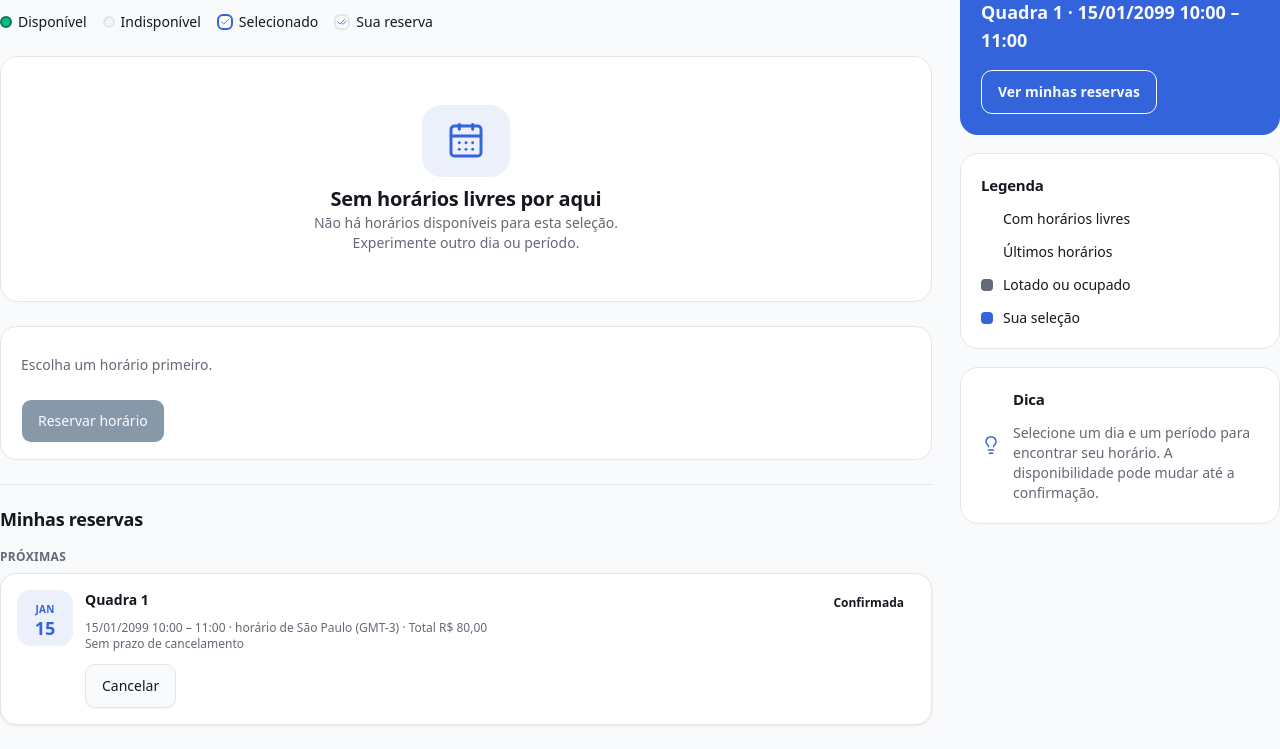
Scenario: TenantPortalAgendaPage B2C self-cancel › keeps a reservation from a newer refresh when the cancel list is stale
(page scrolled)
Expected: the heading "Minhas reservas" is shown, [0,507,143,531]
Expected: the list item "Quadra 1" shows "R$ 80,00", [409,619,487,636]
Click the button "Cancelar" at coordinates (131, 686), box [85,664,176,708]
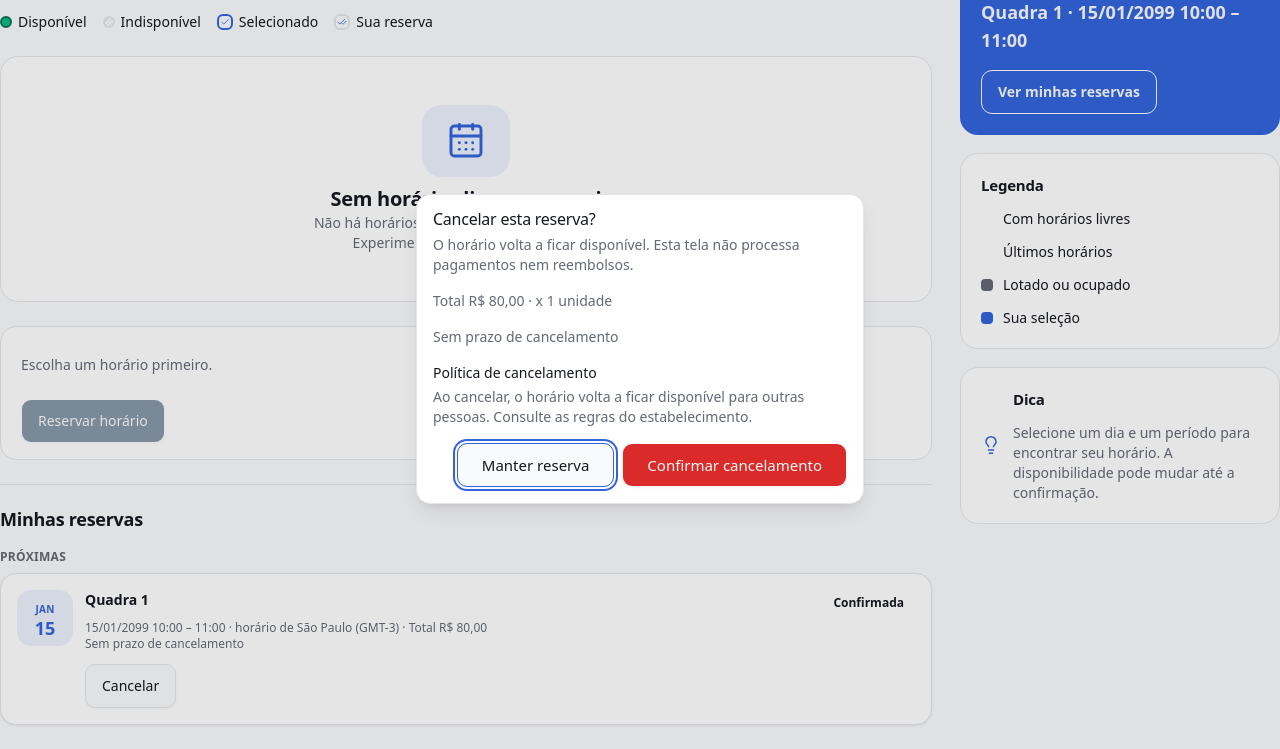
Click the button "Confirmar cancelamento" at coordinates (735, 465), box [622,443,847,487]
(page scrolled)
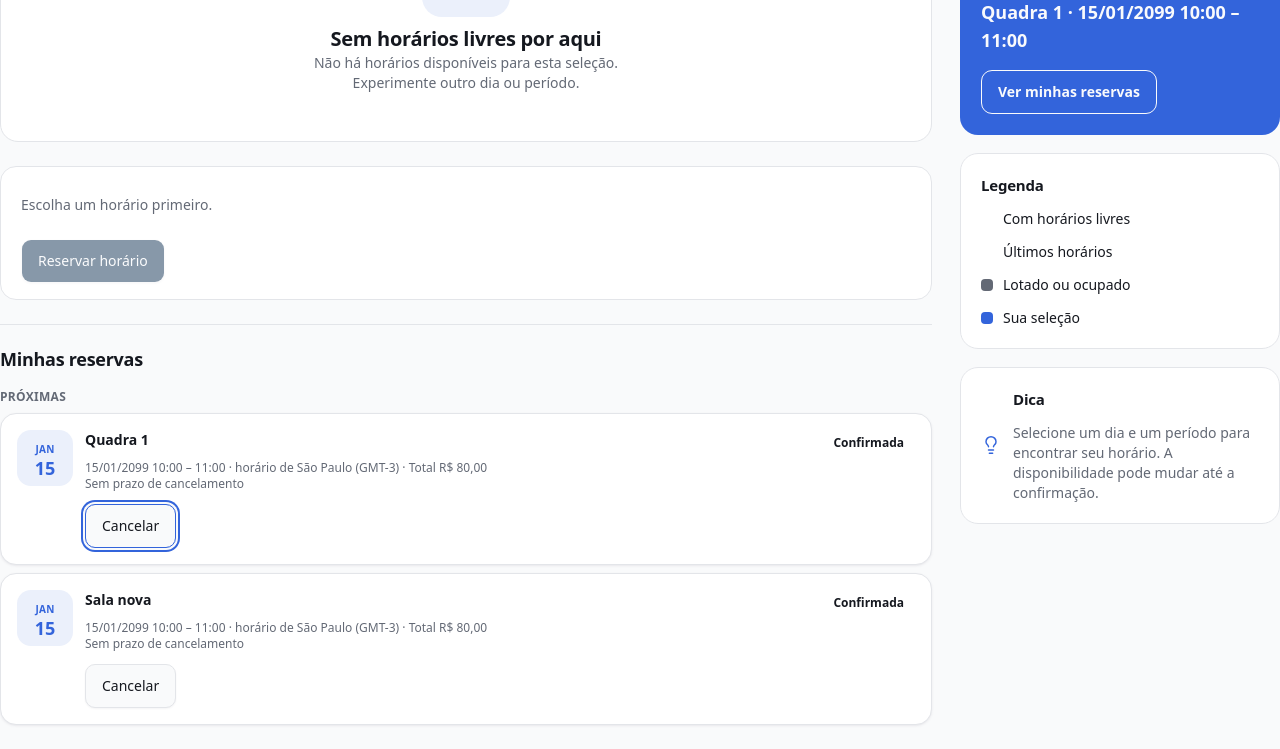
Expected: the text "Sala nova" is shown, [85,590,152,610]
